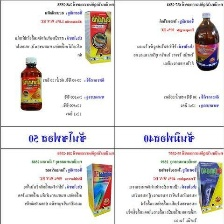carton: (84, 161, 115, 218), (82, 10, 113, 66), (194, 159, 224, 215)
insecticide: (193, 8, 221, 75), (18, 56, 45, 114)
